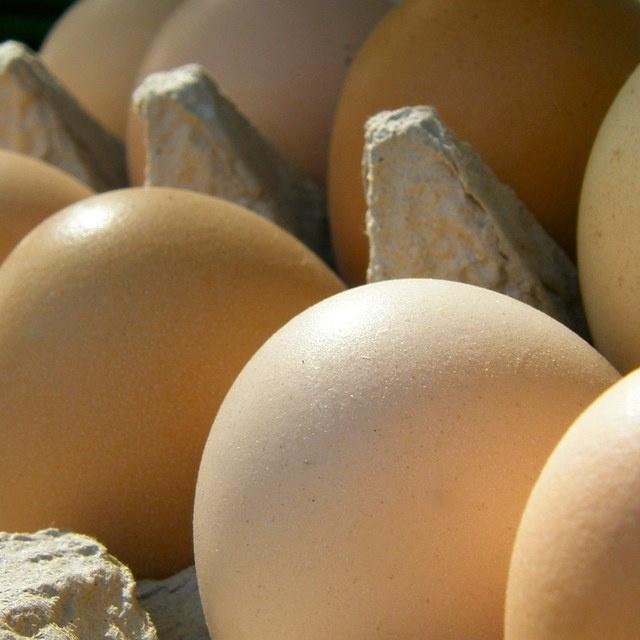egg: (191, 274, 622, 640), (0, 183, 347, 579), (325, 0, 640, 281), (126, 0, 391, 184), (502, 336, 640, 640), (0, 143, 95, 472), (575, 0, 640, 374)
